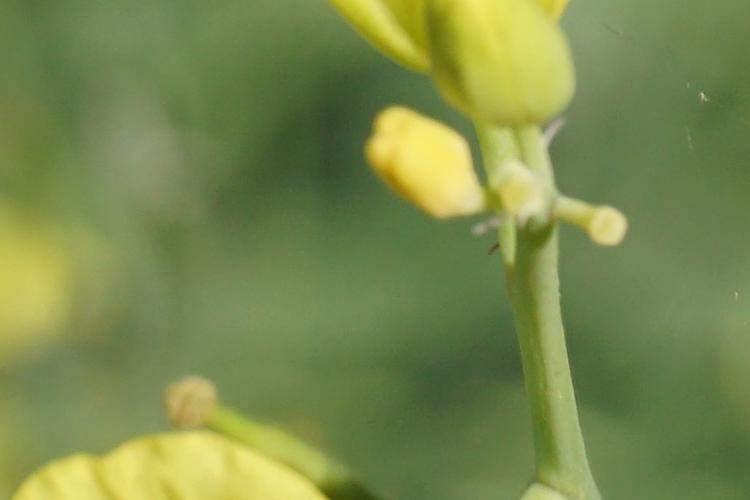bud: (365, 120, 494, 229)
pod: (161, 383, 366, 500)
yellow: (342, 4, 583, 113)
